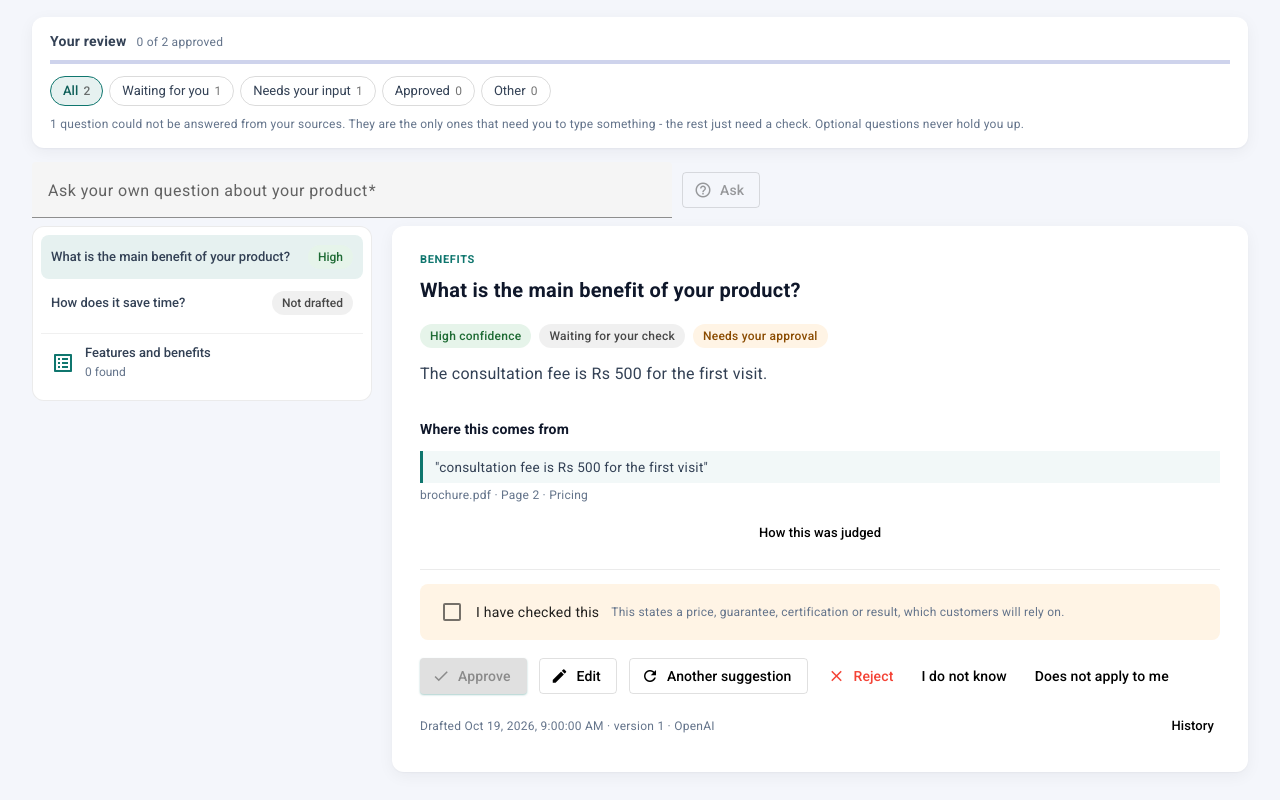
Test: ProductAnswersComponent › asks for another suggestion for one question and shows the new version
(page scrolled)
Click the button with test id "redraft" at (718, 676), box [629, 658, 808, 694]
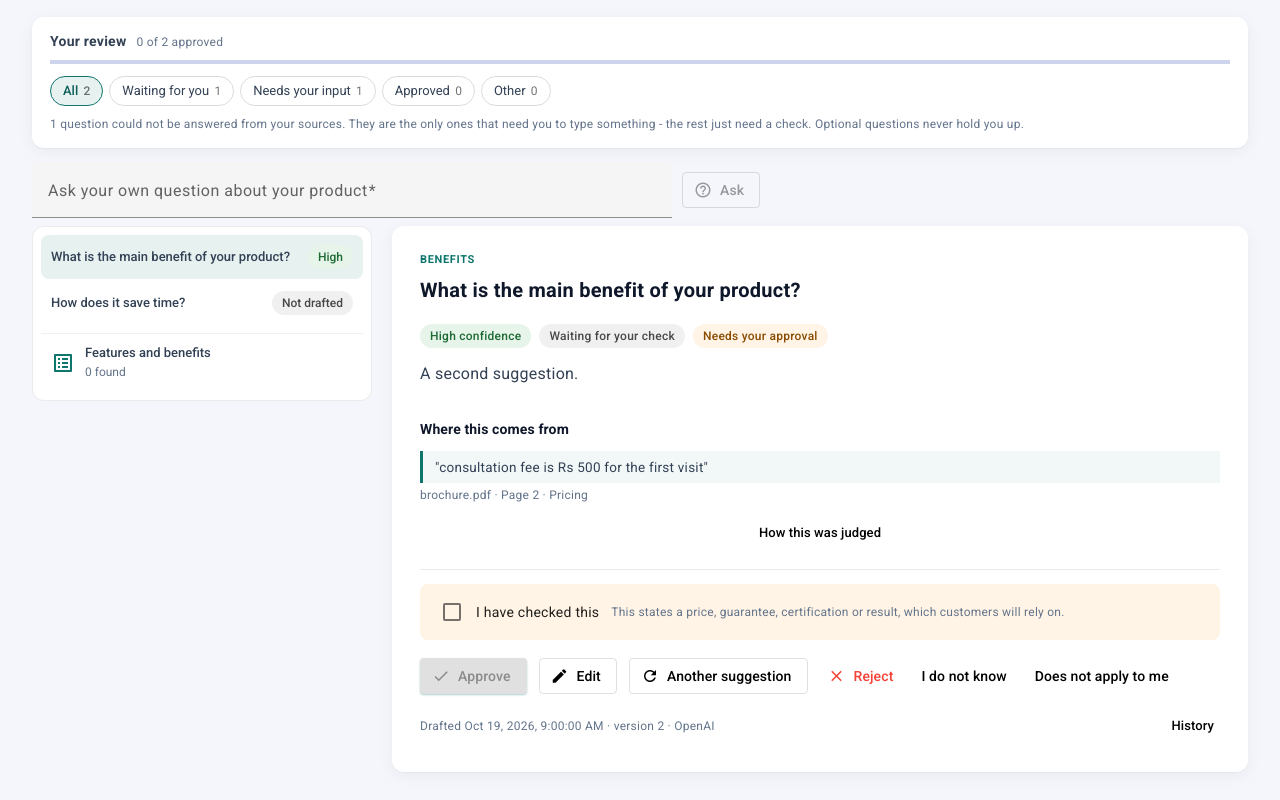
Check: the text with test id "summary" reads "A second suggestion.", box [420, 364, 579, 383]
